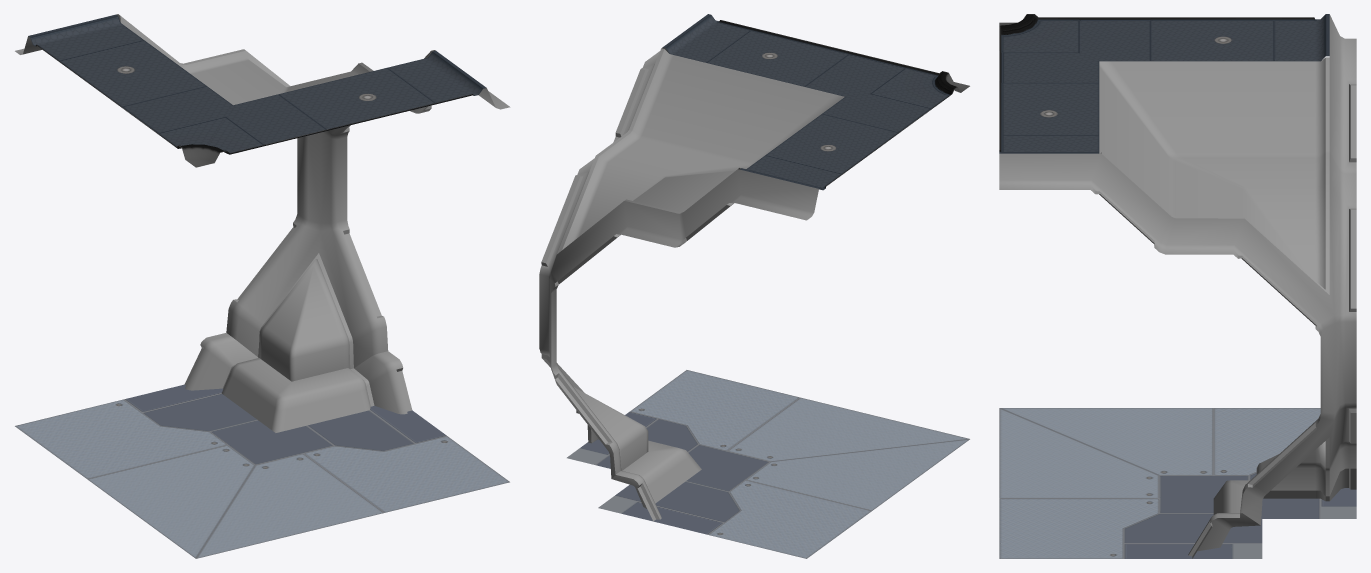
File: Corr_A_corner_inner_small.fbx
The picture shows the model from 3 angles, left to right: view 1: azimuth 30°, elevation 25°; view 2: azimuth 150°, elevation 25°; view 3: azimuth 270°, elevation 25°; orthographic projection. The views are drawn at different scales.
Parts seen in each view (by area): view 1: Corr_A_corner_inner_small; view 2: Corr_A_corner_inner_small; view 3: Corr_A_corner_inner_small.
Part boxes in pixels (x1=…): Corr_A_corner_inner_small: x1=15, y1=14, x2=510, y2=558; Corr_A_corner_inner_small: x1=539, y1=14, x2=969, y2=558; Corr_A_corner_inner_small: x1=999, y1=14, x2=1356, y2=558.
Size of the model in its own units: 250 by 304 by 250.
Materials: 6 (3 with a texture image).
